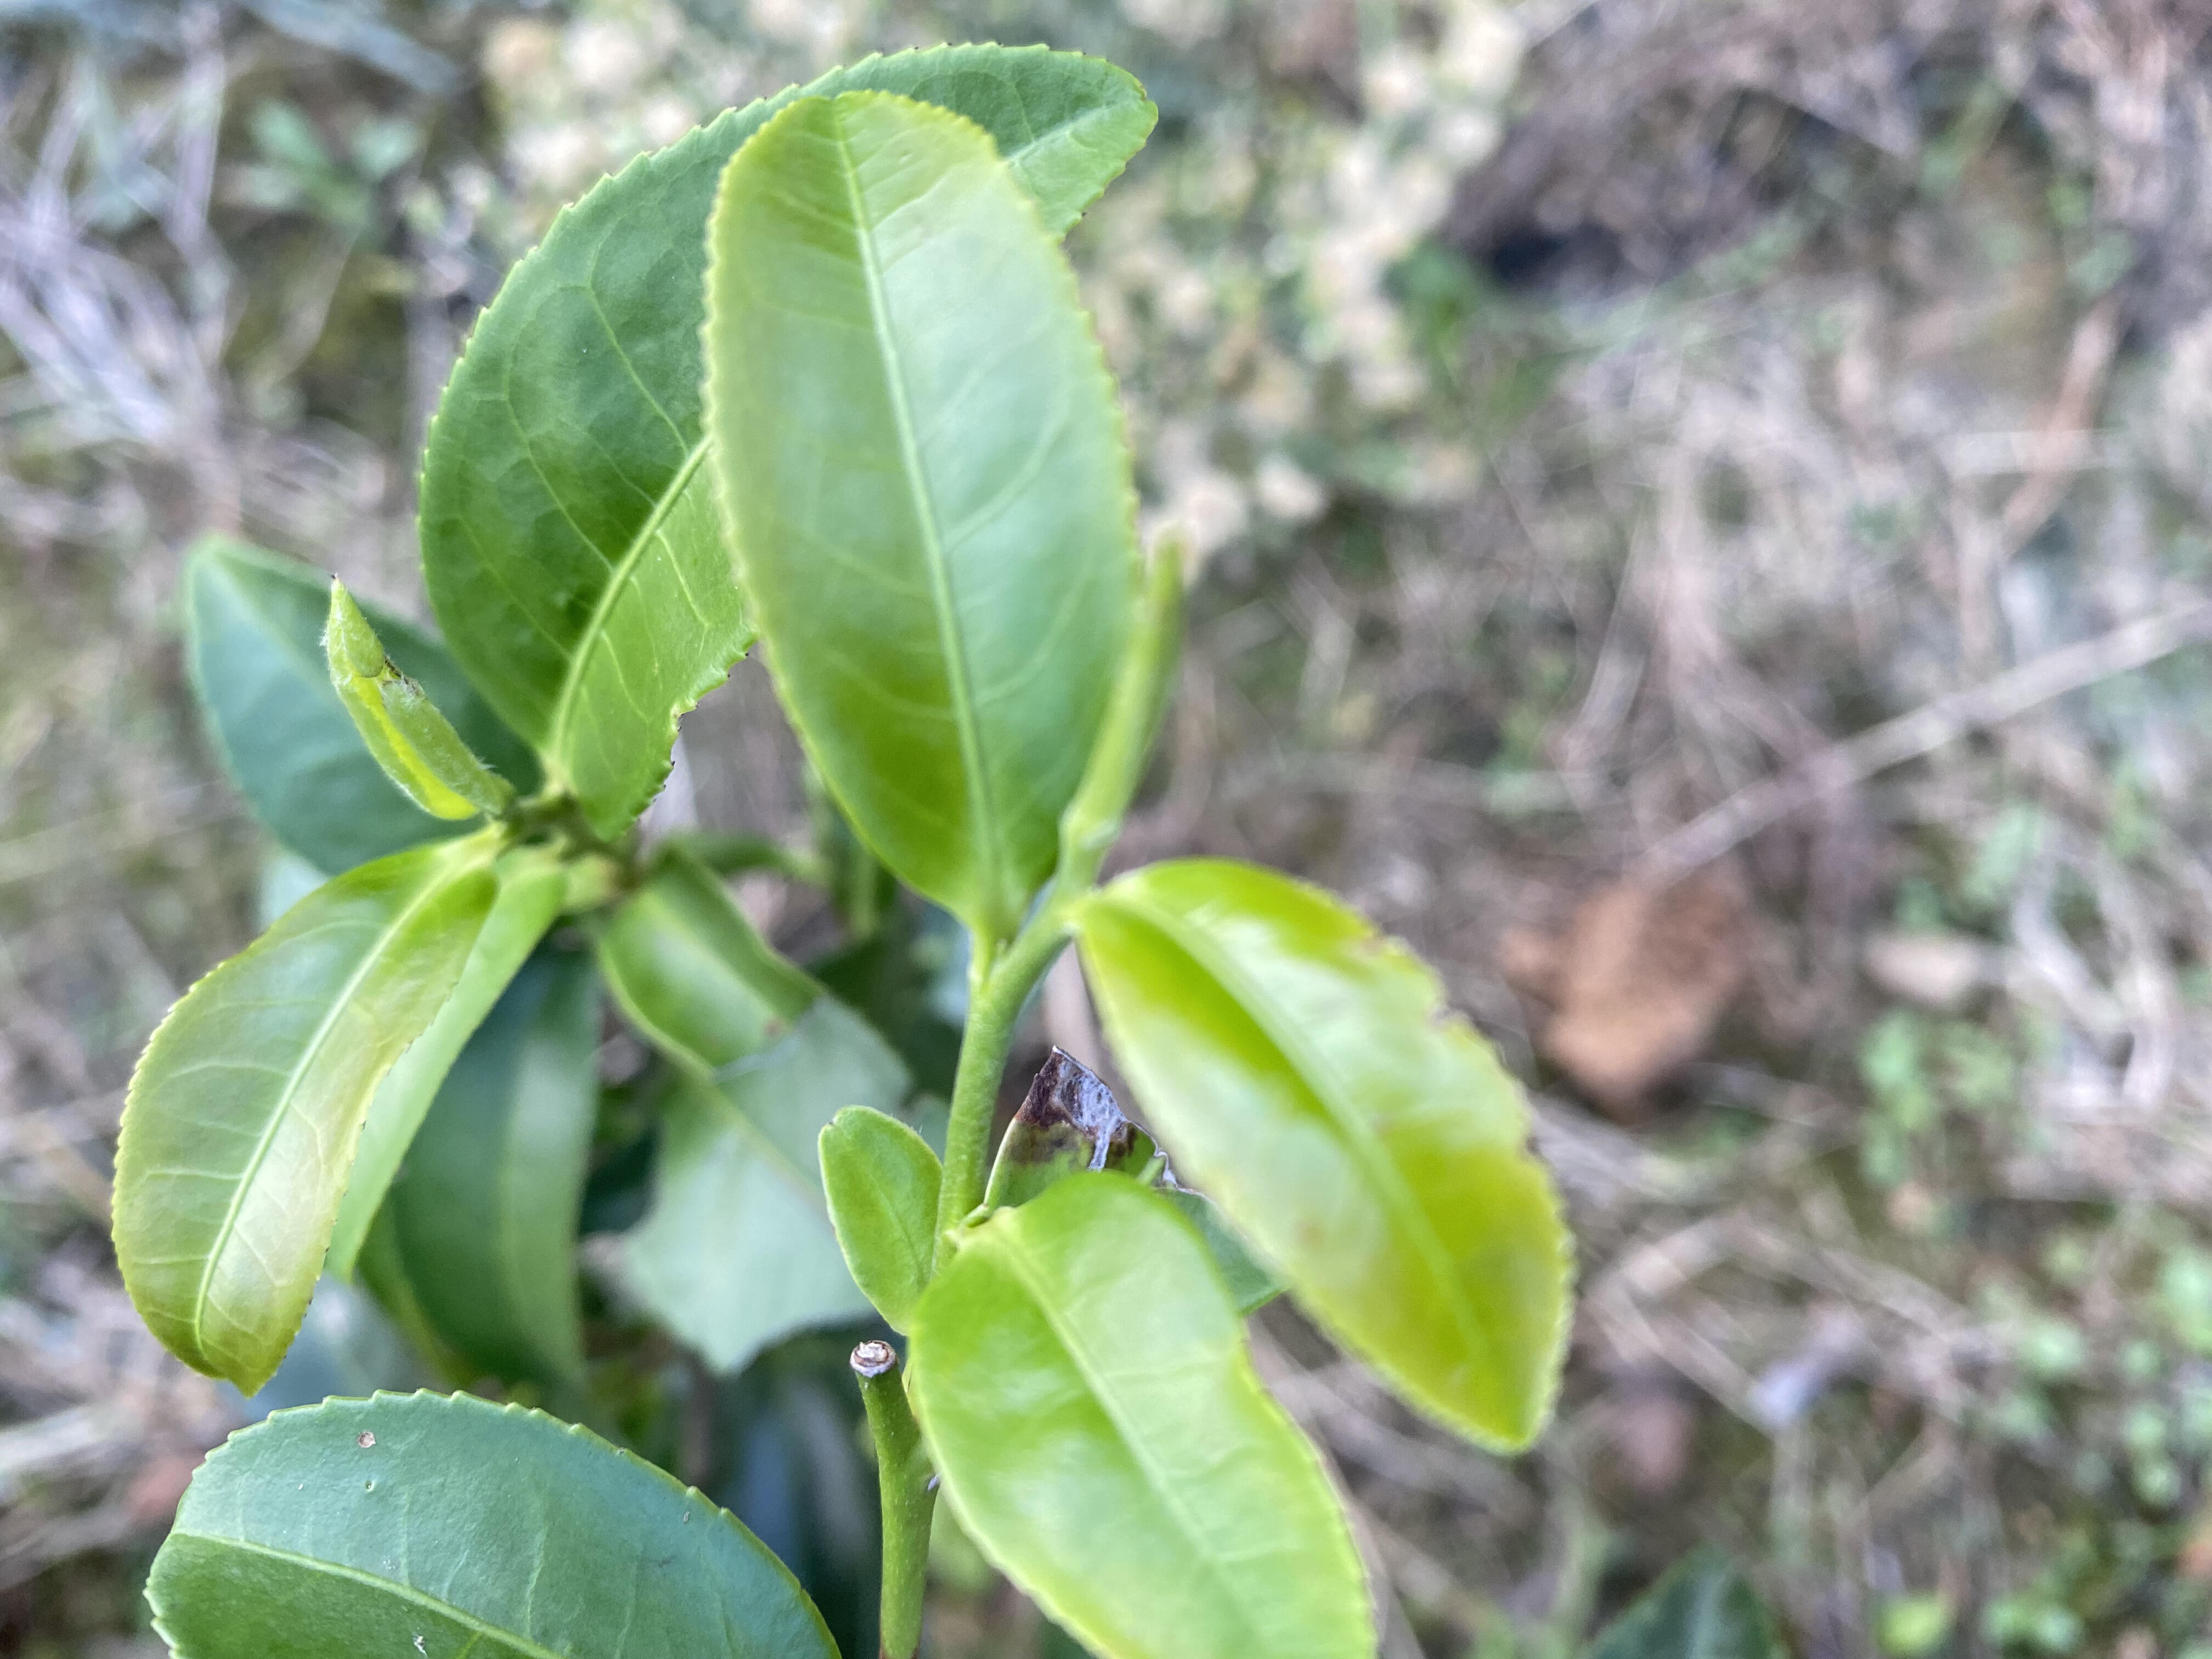healthy: (411, 37, 1160, 842), (702, 92, 1141, 911), (111, 852, 500, 1398)
tanju_low: (1069, 852, 1587, 1453), (139, 1387, 846, 1656)
